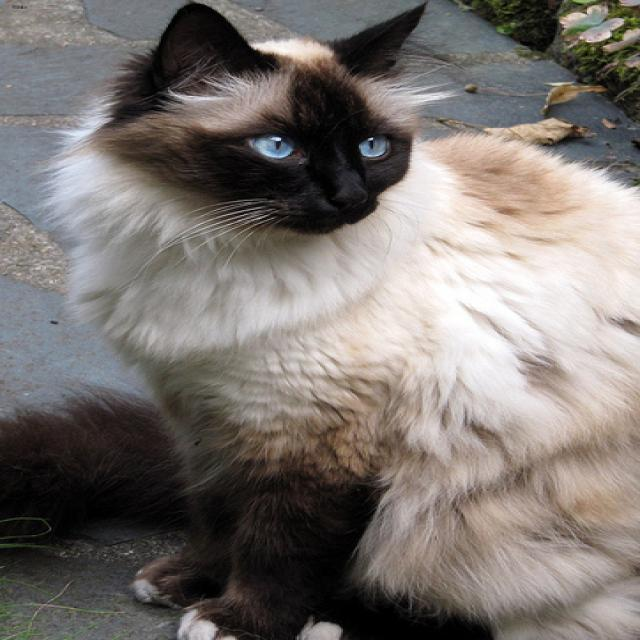Birman: (147, 0, 426, 232)
